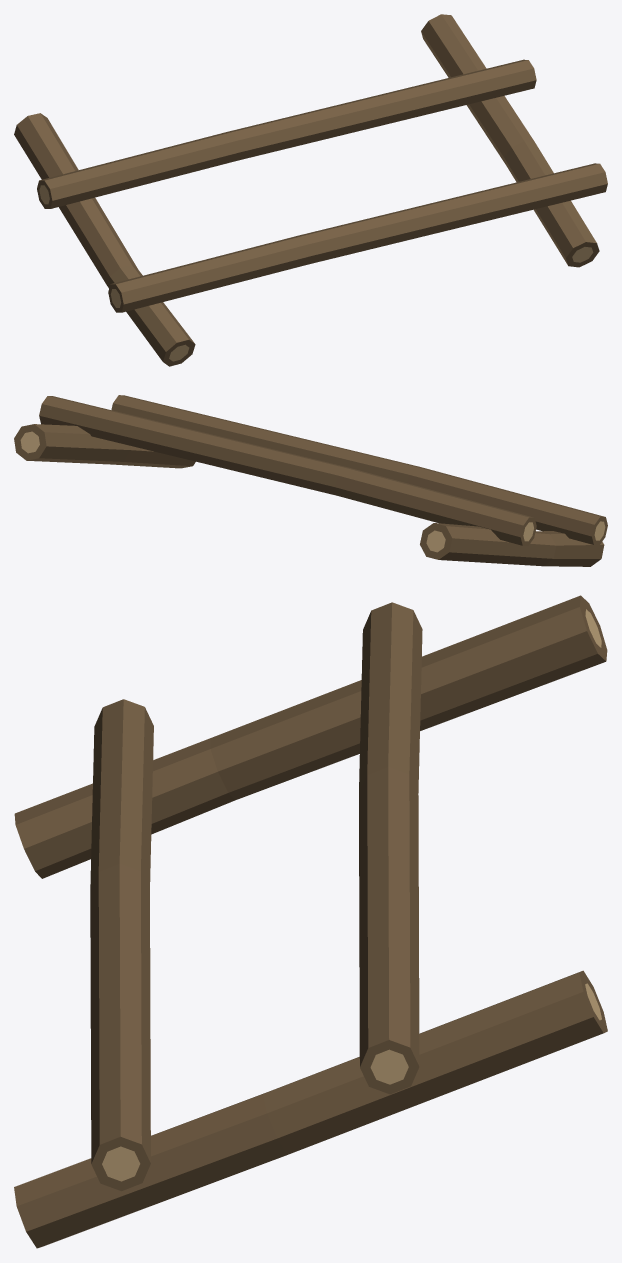
Rendered from rpgpp_ag_gate_balcony_02_roof_support_01.fbx.
The picture shows the model from 3 angles, top to bottom: view 1: azimuth 30°, elevation 25°; view 2: azimuth 150°, elevation 25°; view 3: azimuth 270°, elevation 25°; orthographic projection. The views are drawn at different scales.
Parts seen in each view (by area): view 1: rpgpp_ag_gate_balcony_02_roof_support_01; view 2: rpgpp_ag_gate_balcony_02_roof_support_01; view 3: rpgpp_ag_gate_balcony_02_roof_support_01.
Boxes of the visible parts, left/top/right/bottom form: rpgpp_ag_gate_balcony_02_roof_support_01: left=14, top=14, right=607, bottom=366; rpgpp_ag_gate_balcony_02_roof_support_01: left=14, top=395, right=607, bottom=566; rpgpp_ag_gate_balcony_02_roof_support_01: left=14, top=595, right=607, bottom=1248.
Size of the model in its own units: 4.74 by 1.38 by 2.68.
